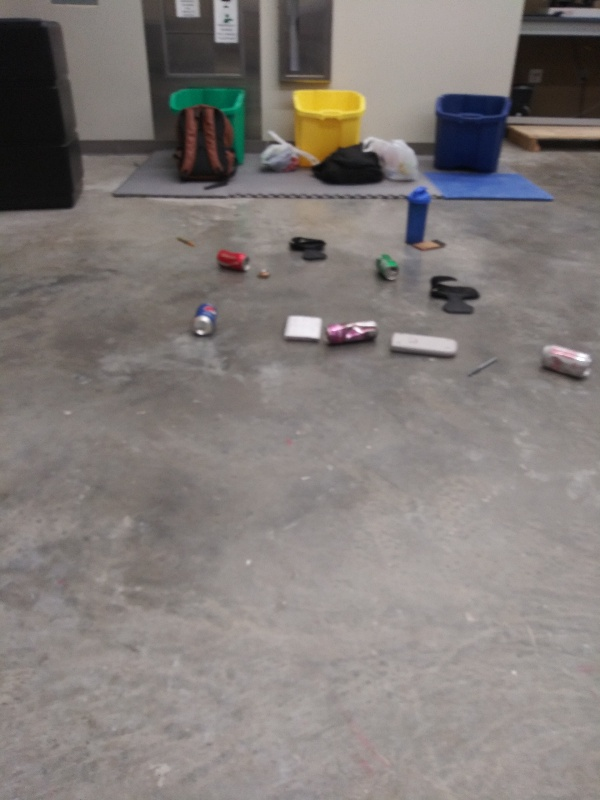can: (537, 341, 594, 382), (321, 316, 382, 353), (188, 300, 222, 339), (214, 246, 254, 273), (372, 249, 402, 283)
